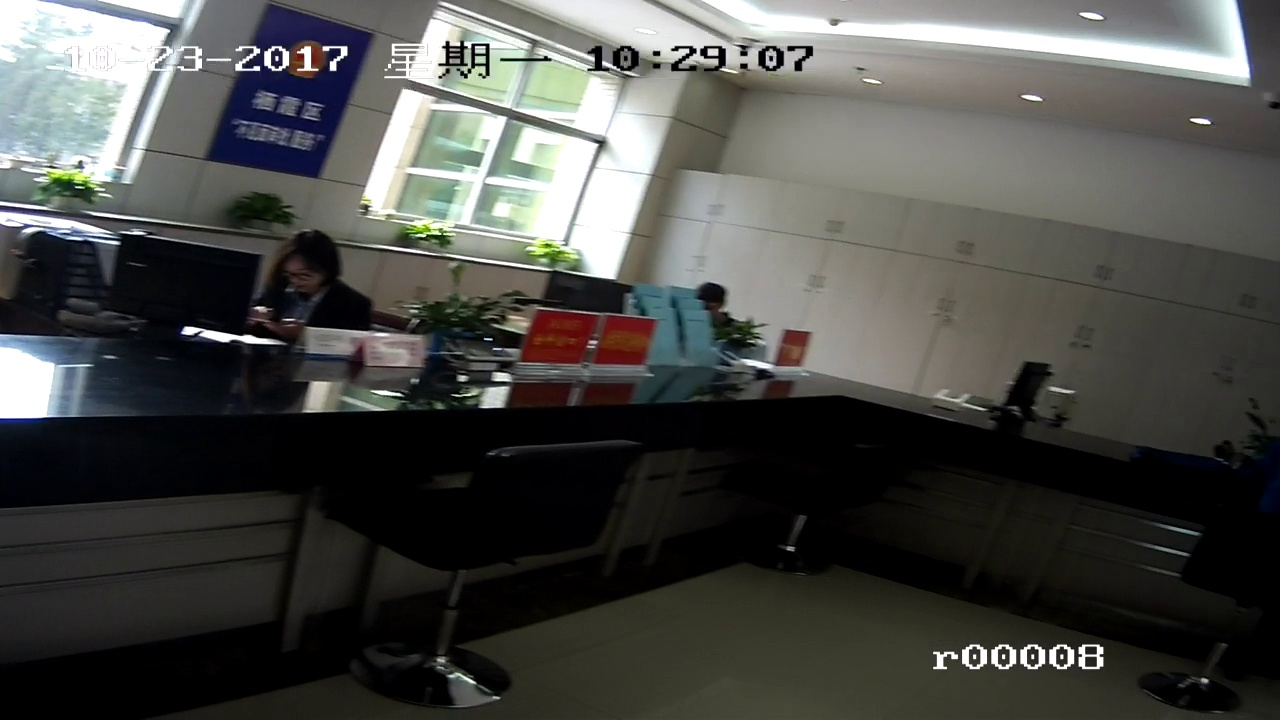billboard: (233, 17, 354, 178)
chair: (342, 462, 648, 703), (740, 432, 881, 581)
monitor: (112, 240, 254, 337)
person: (271, 247, 374, 332)
